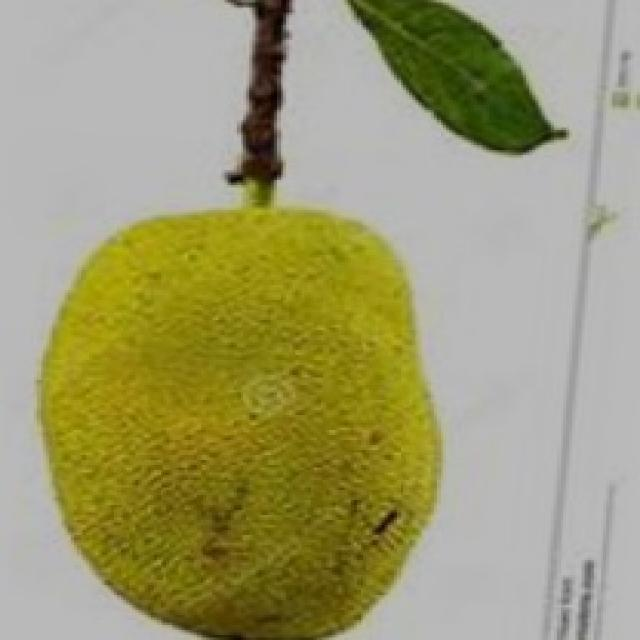Fruit: (83, 192, 480, 632)
